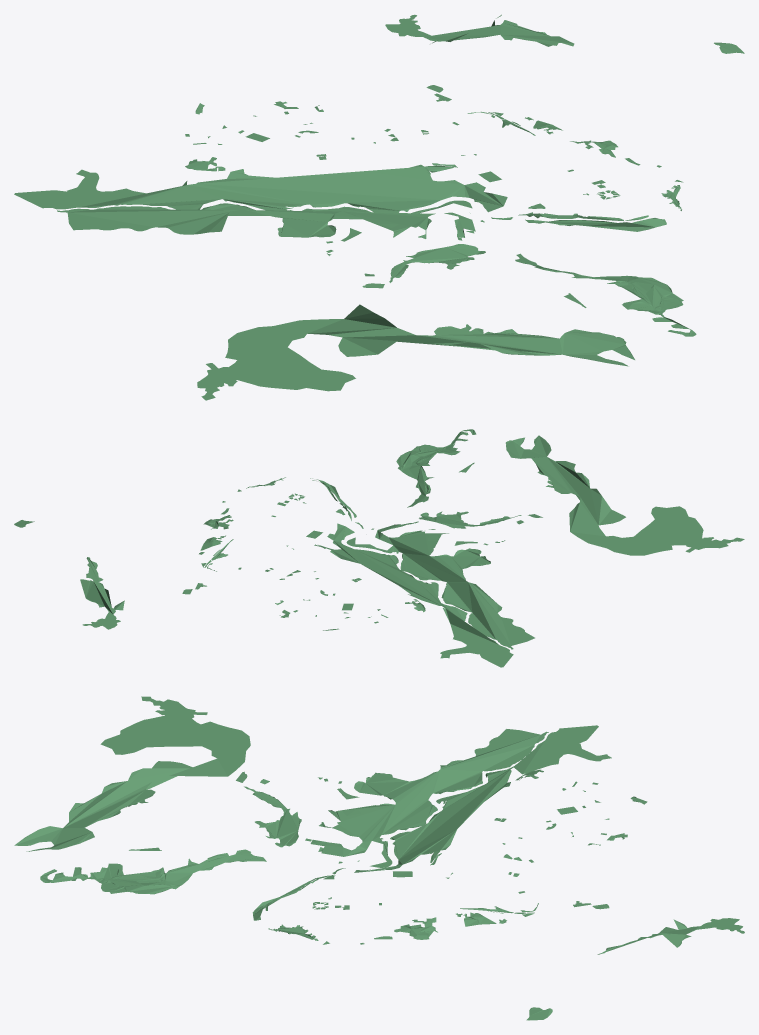
File: green.glb
The picture shows the model from 3 angles, top to bottom: view 1: azimuth 30°, elevation 25°; view 2: azimuth 150°, elevation 25°; view 3: azimuth 270°, elevation 25°; orthographic projection. The views are drawn at different scales.
Parts seen in each view (by area): view 1: green; view 2: green; view 3: green.
Part boxes in pixels (x1,y1,x2,y2): green: (14, 14, 744, 400); green: (14, 429, 744, 667); green: (14, 696, 744, 1020).
Bounding box in the file's own units: 4140 × 111 × 3927.
